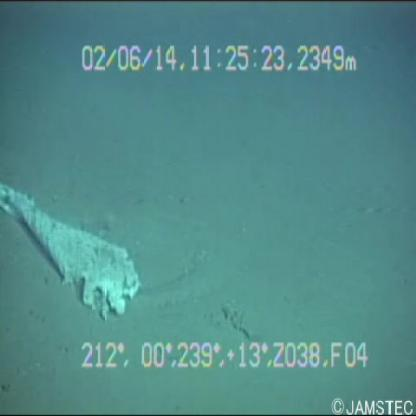Rác: (1, 168, 154, 324)
